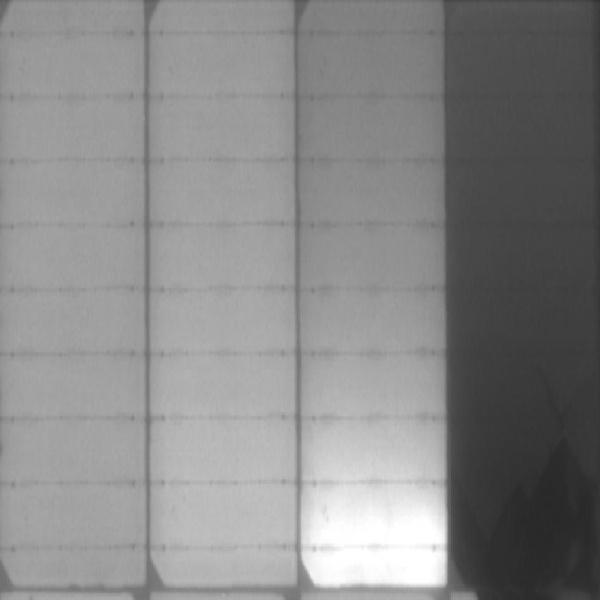broken: (451, 369, 600, 598)
hot_spot: (314, 549, 446, 580), (330, 521, 437, 546)
